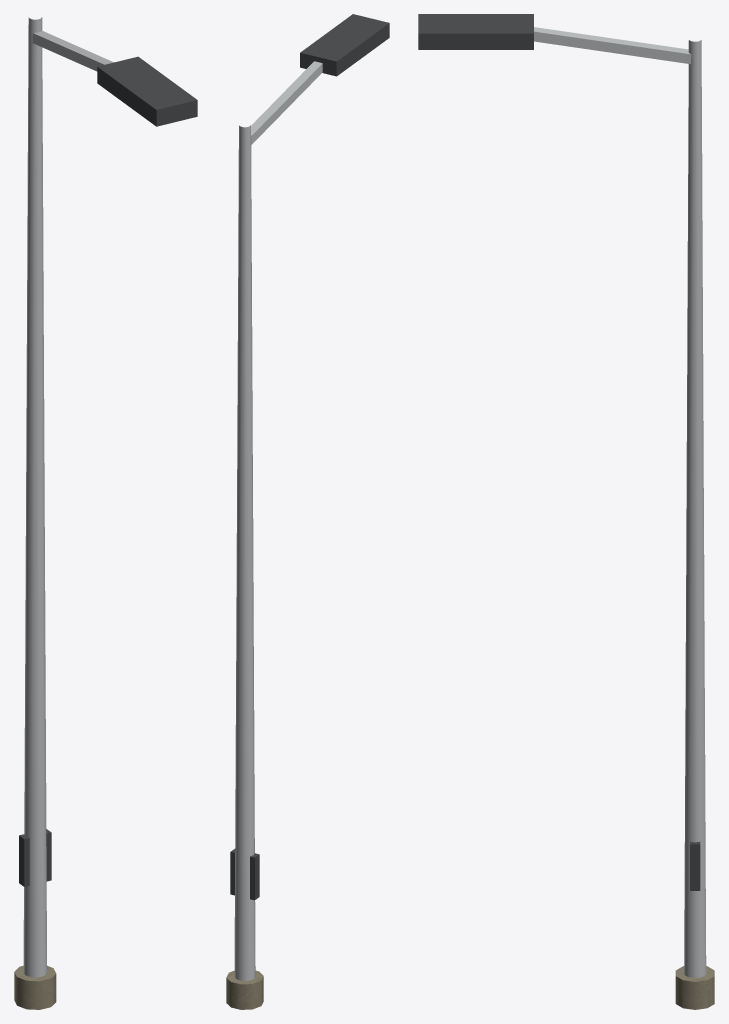
Rendered from lamp_street.glb.
3 views of the same model, side by side, from view 1: azimuth 30°, elevation 25°; view 2: azimuth 150°, elevation 25°; view 3: azimuth 270°, elevation 25° (orthographic). The views are drawn at different scales.
Visible parts, largest first — view 1: lamp_street_body; view 2: lamp_street_body; view 3: lamp_street_body.
Boxes of the visible parts, x1=… form: lamp_street_body: x1=14, y1=17, x2=197, y2=1009; lamp_street_body: x1=226, y1=14, x2=389, y2=1009; lamp_street_body: x1=418, y1=14, x2=714, y2=1009.
Bounding box in the file's own units: 0.018 × 0.4185 × 0.1151.
4 materials, 1 textured.
